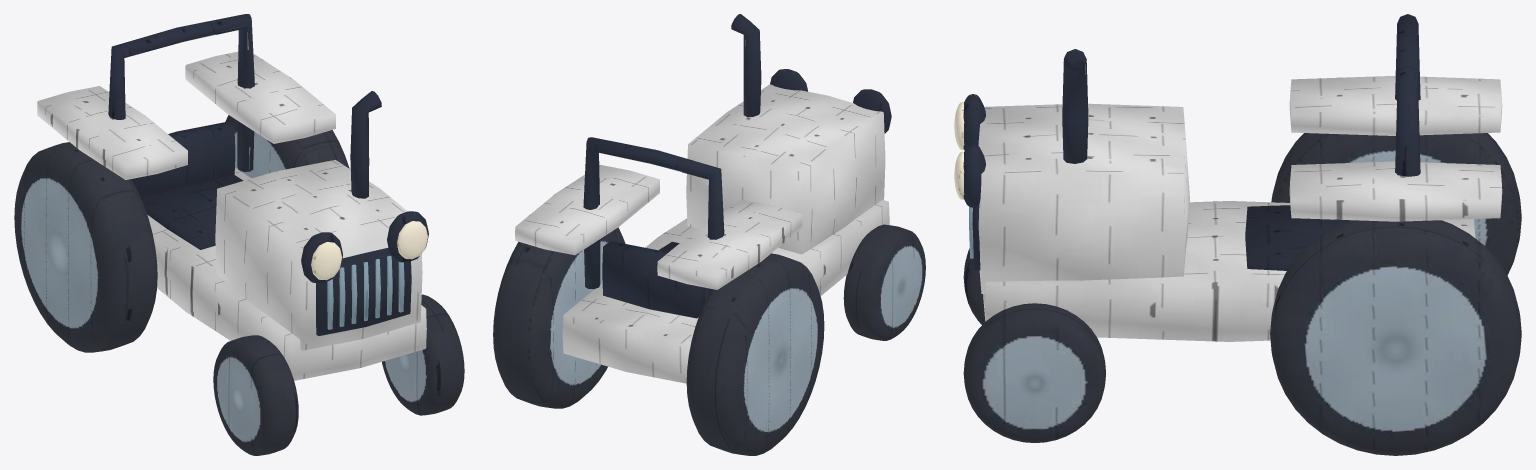
File: tractor.glb
3 views of the same model, side by side, from view 1: azimuth 30°, elevation 25°; view 2: azimuth 150°, elevation 25°; view 3: azimuth 270°, elevation 25° (orthographic). The views are drawn at different scales.
Parts seen in each view (by area): view 1: body_paint, body_details, wheel_RR, wheel_FR, wheel_FL, wheel_RL; view 2: body_paint, wheel_RR, wheel_RL, body_details, wheel_FR; view 3: body_paint, wheel_RL, wheel_FL, body_details, wheel_RR, wheel_FR.
Part boxes in pixels (left/top/right/bottom): body_paint: left=37, top=51, right=426, bottom=380; body_details: left=108, top=14, right=428, bottom=335; wheel_RR: left=14, top=142, right=157, bottom=352; wheel_FR: left=213, top=335, right=298, bottom=455; wheel_FL: left=382, top=294, right=464, bottom=415; wheel_RL: left=225, top=115, right=349, bottom=178; body_paint: left=515, top=84, right=889, bottom=383; wheel_RR: left=686, top=253, right=824, bottom=455; wheel_RL: left=493, top=227, right=625, bottom=408; body_details: left=583, top=14, right=891, bottom=318; wheel_FR: left=843, top=224, right=925, bottom=340; body_paint: left=978, top=75, right=1502, bottom=341; wheel_RL: left=1270, top=220, right=1521, bottom=455; wheel_FL: left=963, top=303, right=1105, bottom=442; body_details: left=954, top=14, right=1420, bottom=270; wheel_RR: left=1271, top=133, right=1521, bottom=275; wheel_FR: left=963, top=248, right=985, bottom=324.
Size of the model in its own units: 1.6 by 1.88 by 2.6.
2 materials, 2 textured.
